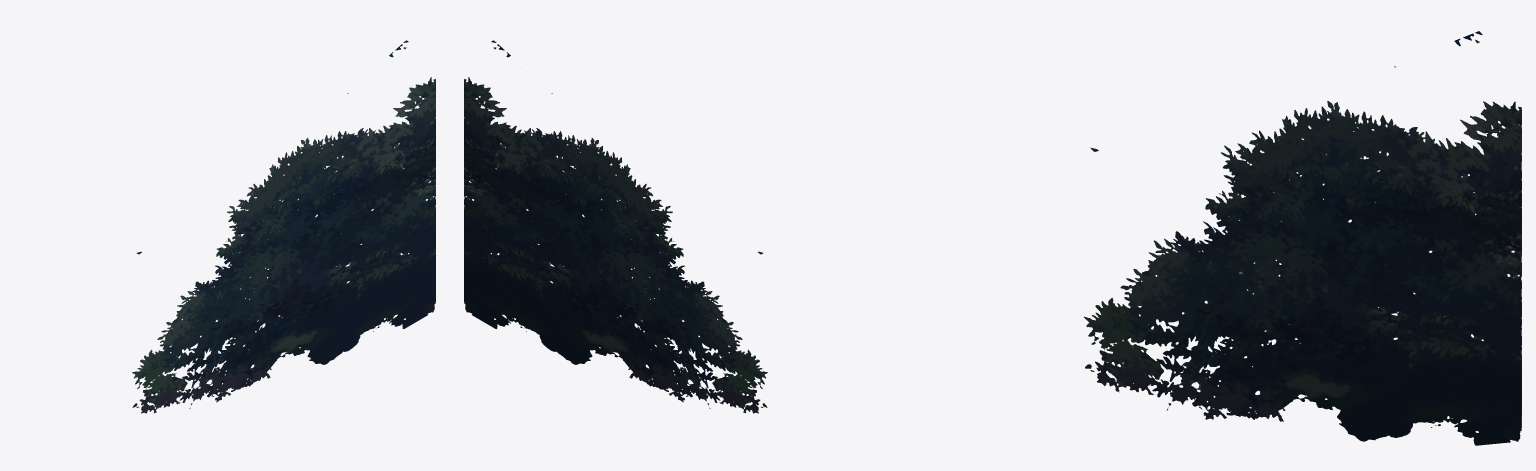
The model's file is HuBian_NightZhiwu3_fbx.FBX.
The picture shows the model from 3 angles, left to right: view 1: azimuth 30°, elevation 25°; view 2: azimuth 150°, elevation 25°; view 3: azimuth 330°, elevation 25°; orthographic projection. The views are drawn at different scales.
Parts seen in each view (by area): view 1: Object031; view 2: Object031; view 3: Object031.
Boxes of the visible parts, x1=… form: Object031: x1=132, y1=40, x2=435, y2=413; Object031: x1=464, y1=40, x2=767, y2=413; Object031: x1=1084, y1=31, x2=1521, y2=445.
Bounding box in the file's own units: 5.62 × 4.52 × 2.71e-06.
Materials: 1 (1 with a texture image).
